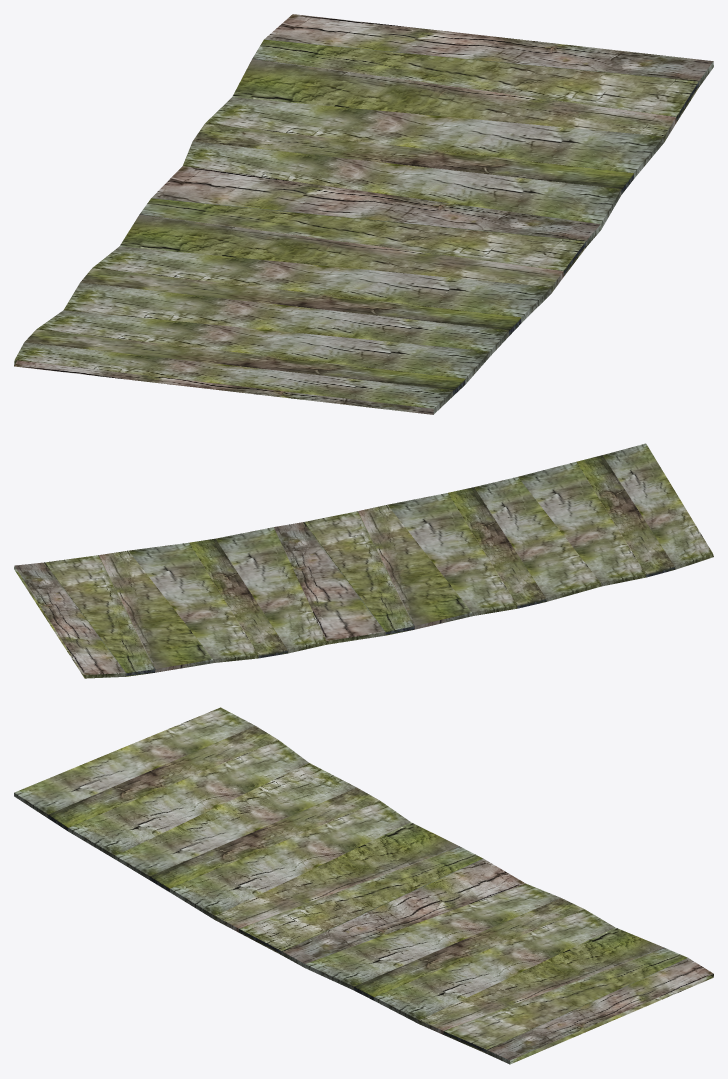
Rendered from gameobject_25_colider.fbx.
3 views of the same model, one above another, from view 1: azimuth 30°, elevation 25°; view 2: azimuth 150°, elevation 25°; view 3: azimuth 270°, elevation 25° (orthographic). The views are drawn at different scales.
Parts seen in each view (by area): view 1: GameObject__25___1_; view 2: GameObject__25___1_; view 3: GameObject__25___1_.
Boxes of the visible parts, x1,y1,x2,y2 form: GameObject__25___1_: (14,14,713,414); GameObject__25___1_: (14,443,713,678); GameObject__25___1_: (14,707,713,1064).
Size of the model in its own units: 486 by 45.76 by 483.
